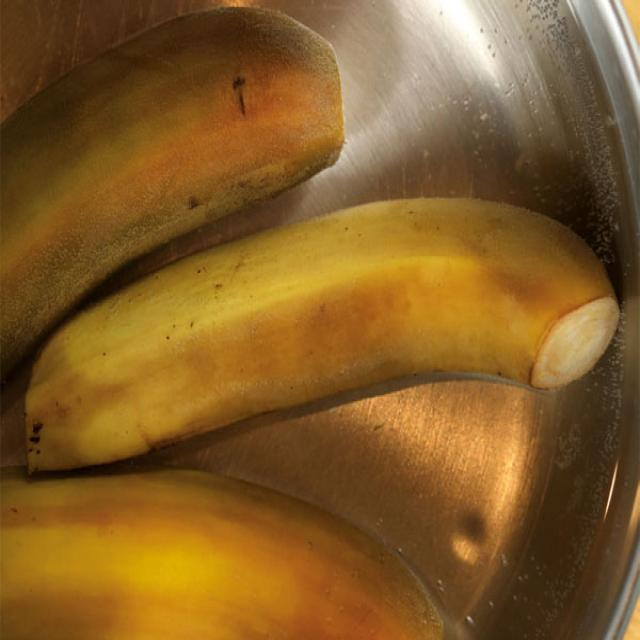platano: (4, 12, 629, 564)
